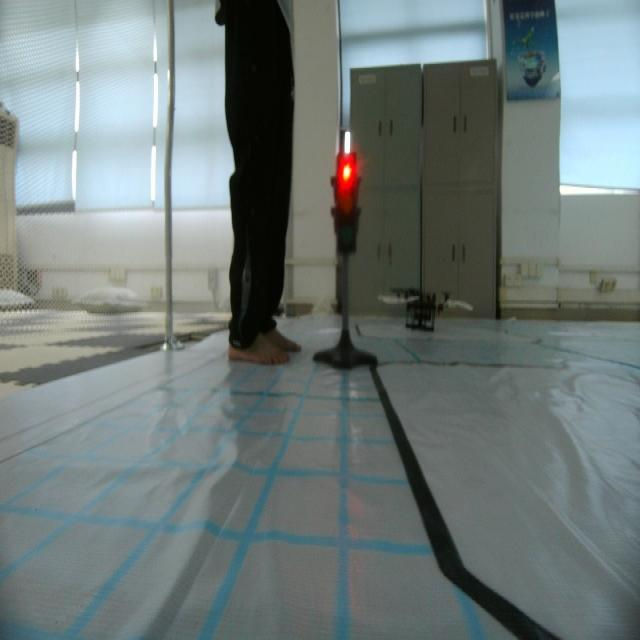red: (330, 149, 362, 264)
